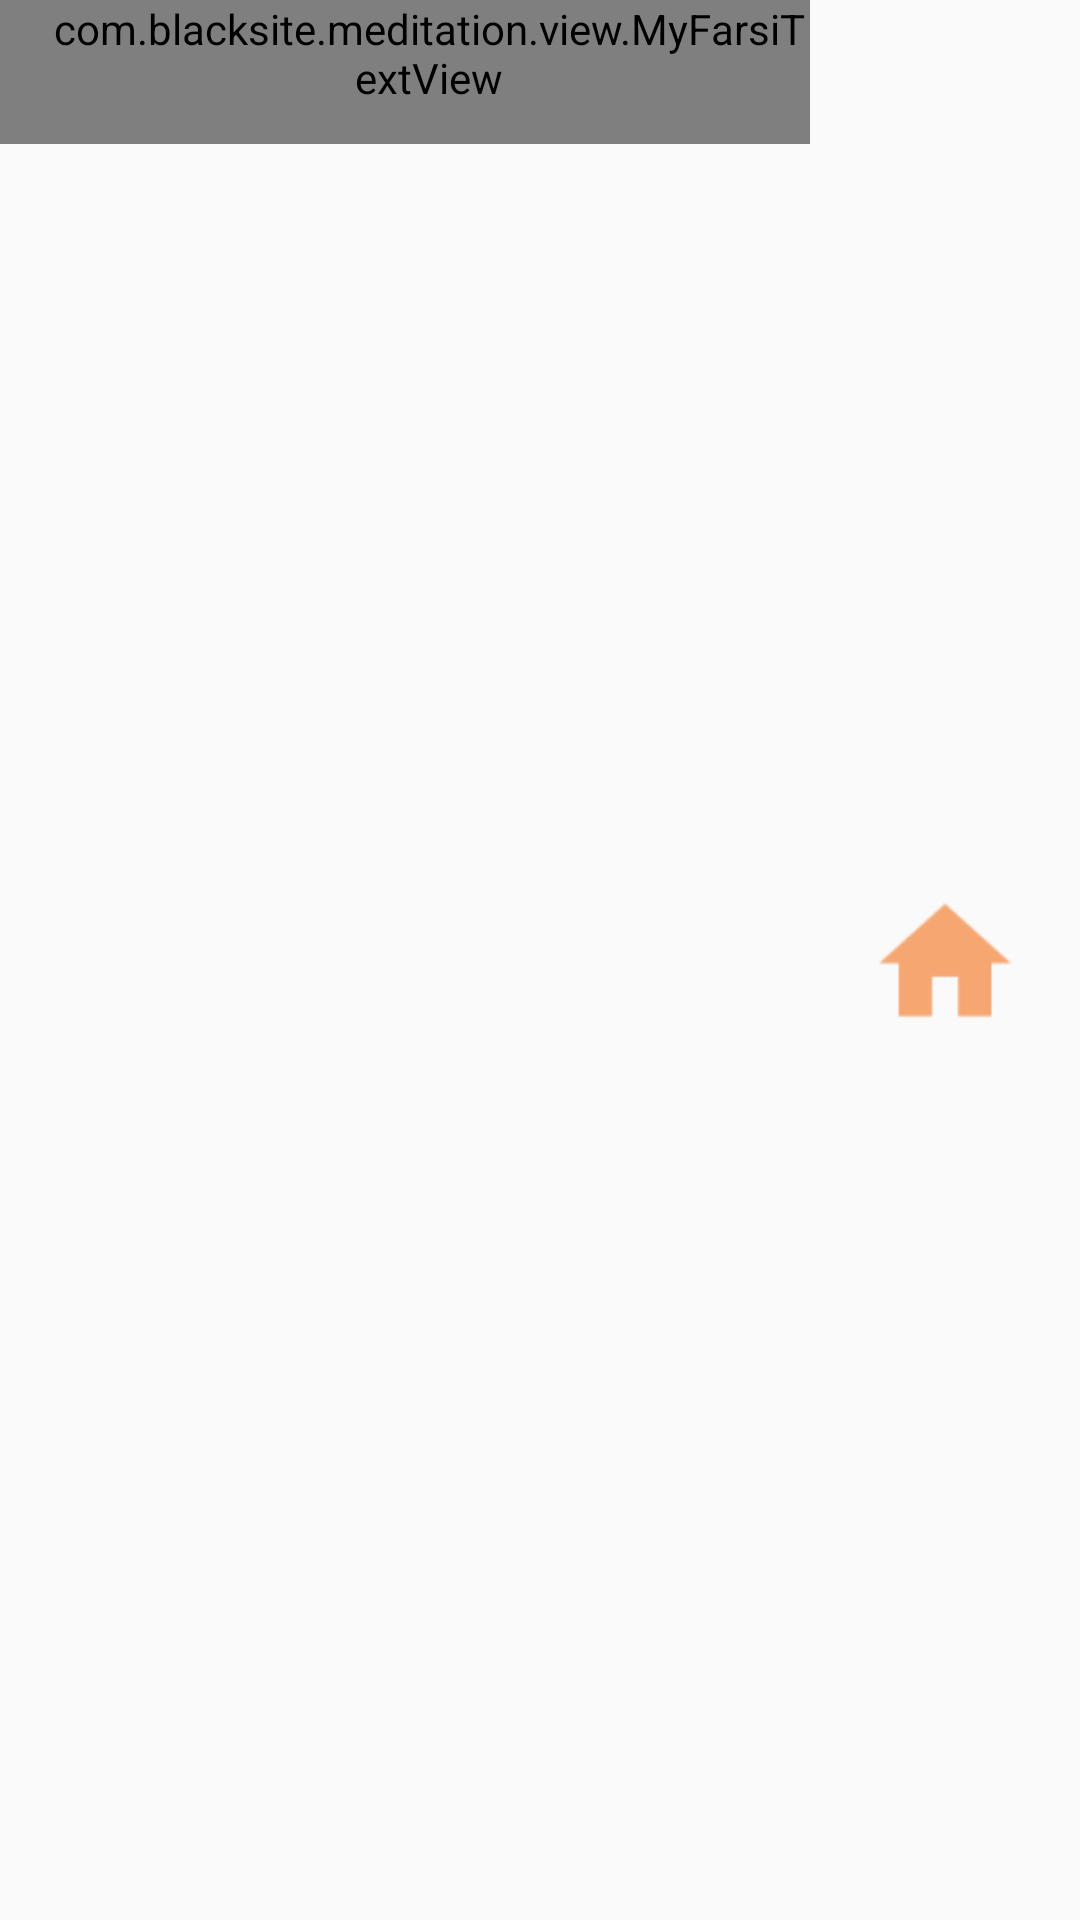

Where to tap for icons on this 1080 × 1920 app screen, as point (x, y):
home: point (945, 960)
